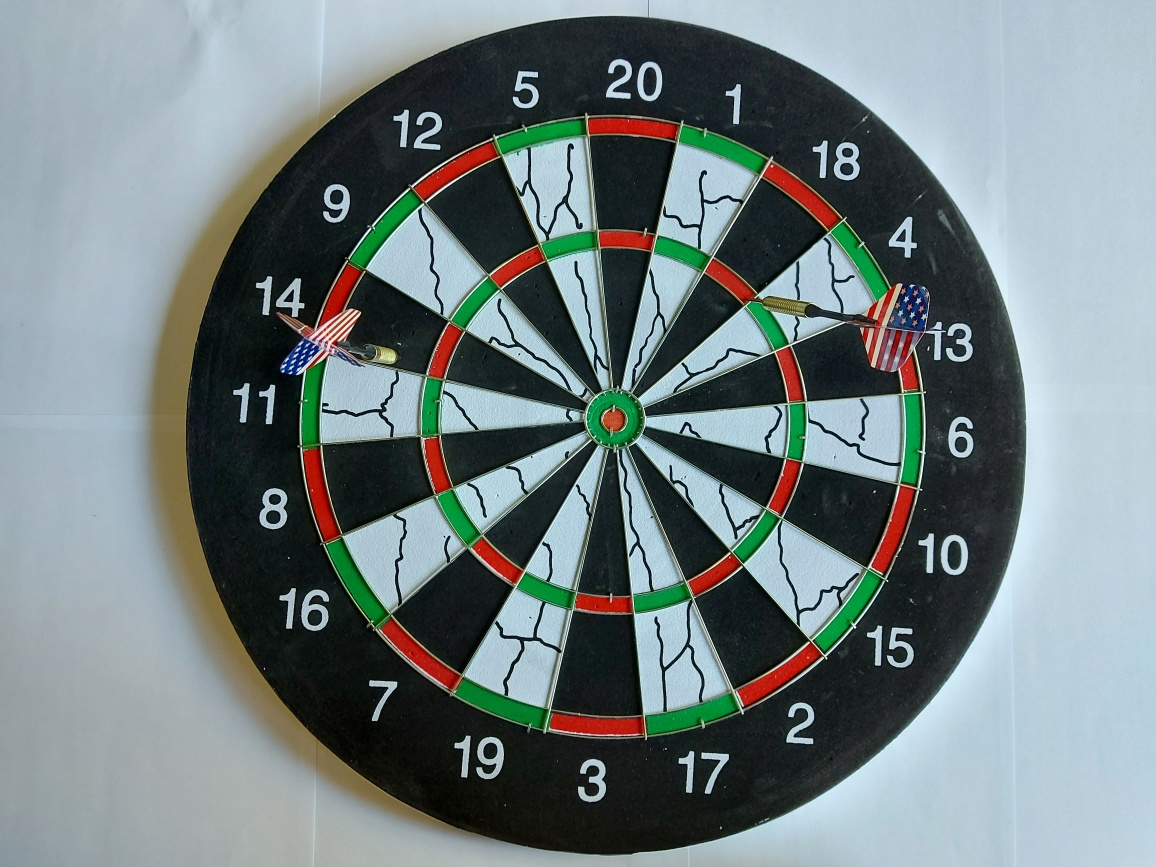Dart: (721, 264, 950, 400), (251, 299, 414, 392)
